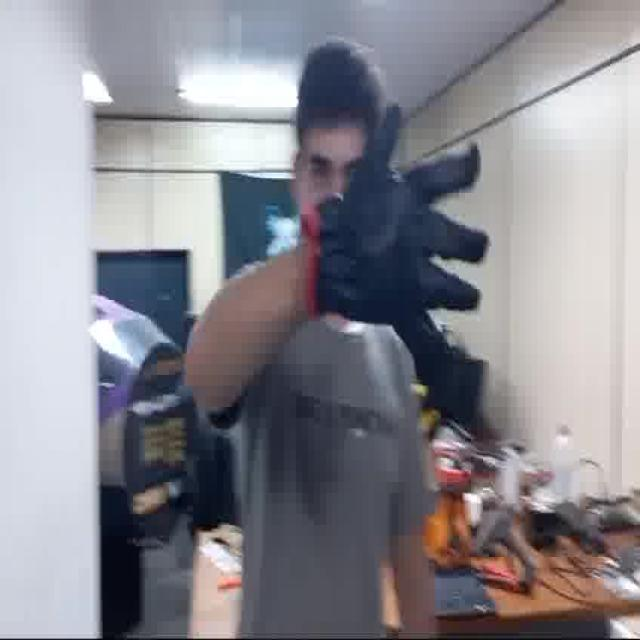Gloves: (305, 101, 494, 394)
